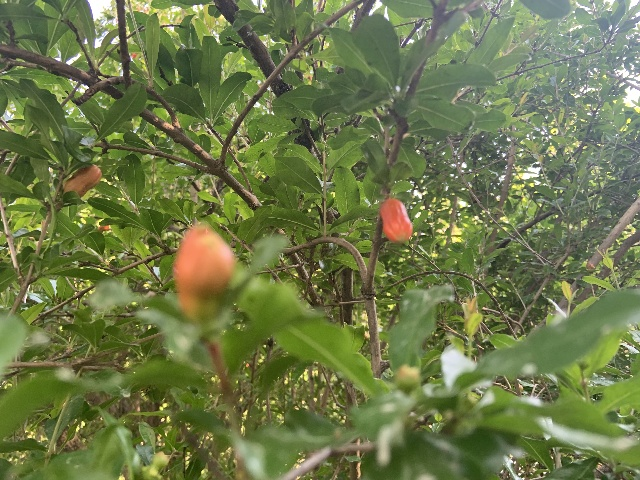bud: (172, 223, 235, 320), (380, 197, 412, 243), (63, 164, 101, 197)
